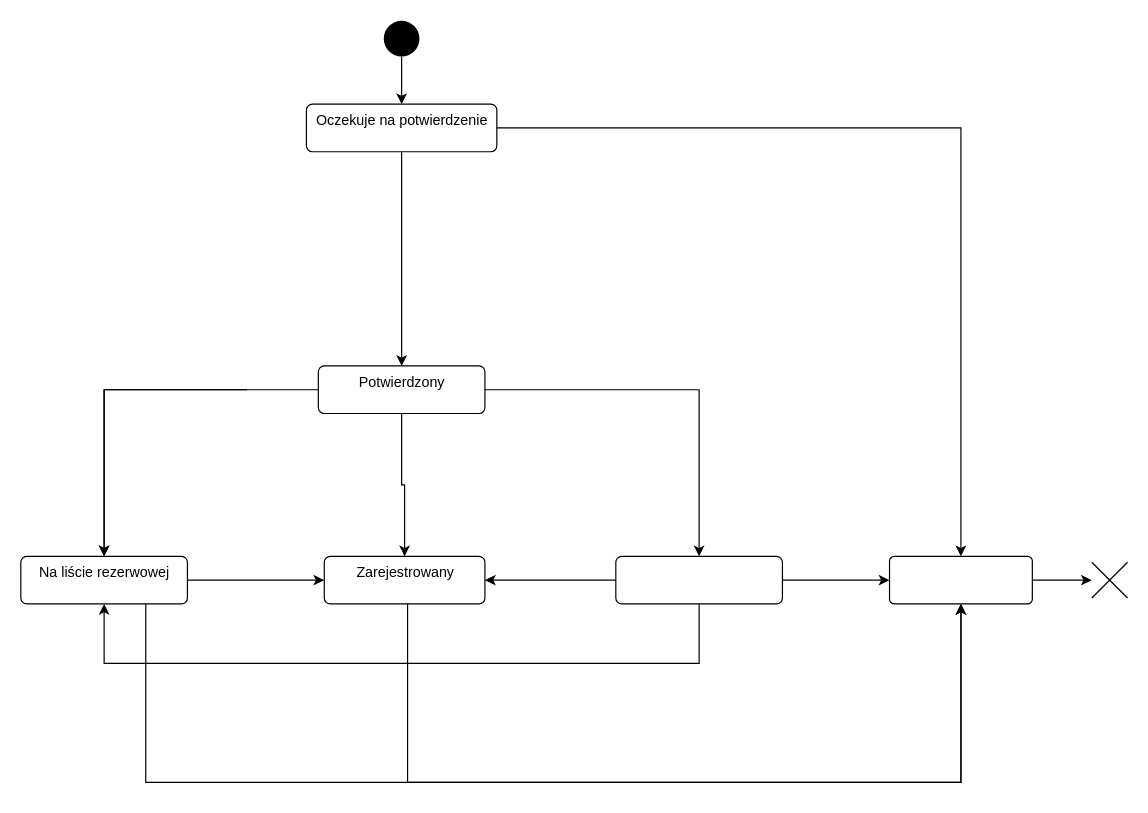
Some shapes in this 1148 by 813 pixel diagram are drawn without their labels. The box of each missing label's shape, as (x1, y1, x2, y2) in pixels:
Usunięty: (888, 555, 1032, 604)
Zawieszony: (615, 555, 782, 604)
